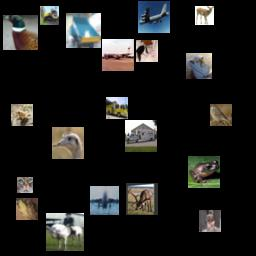airplane: (102, 39, 134, 71), (138, 1, 170, 33), (90, 186, 119, 215)
bird: (3, 15, 38, 50), (52, 127, 84, 159), (210, 104, 232, 126)
cat: (17, 177, 33, 193)
deer: (126, 183, 158, 215), (195, 6, 214, 25)
dog: (136, 40, 158, 62), (199, 210, 221, 232)
frog: (188, 156, 220, 188), (11, 104, 33, 126), (16, 198, 38, 220)
ship: (186, 53, 212, 79)
truck: (66, 13, 101, 48), (125, 120, 157, 152), (106, 97, 128, 119), (40, 6, 59, 25)
